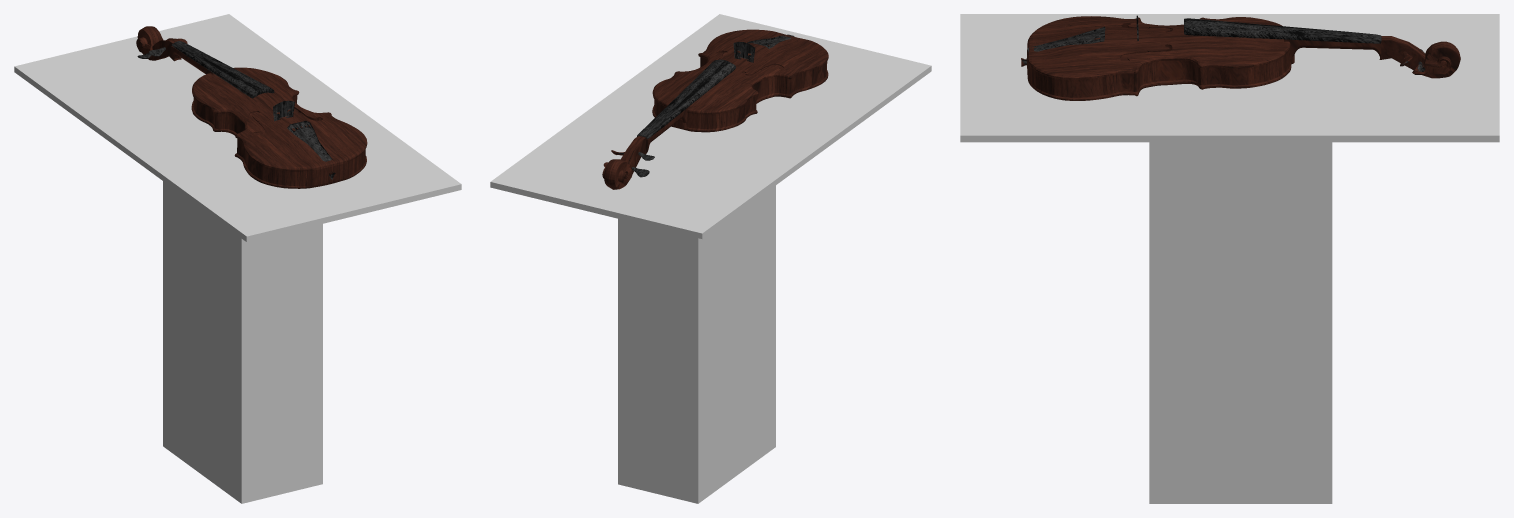
Rendered from Violin1.fbx.
3 renders of one model, left to right at view 1: azimuth 30°, elevation 25°; view 2: azimuth 150°, elevation 25°; view 3: azimuth 270°, elevation 25°, orthographic. The views are drawn at different scales.
Parts seen in each view (by area): view 1: Cube.013, Plane, Violin_Primær_1; view 2: Cube.013, Plane, Violin_Primær_1; view 3: Cube.013, Plane, Violin_Primær_1.
Part boxes in pixels (x1,y1,x2,y2): Cube.013: (163,181,322,503); Plane: (14,14,461,242); Violin_Primær_1: (136,26,367,188); Cube.013: (618,185,775,503); Plane: (490,14,931,238); Violin_Primær_1: (602,29,828,189); Cube.013: (1149,142,1332,503); Plane: (960,14,1499,142); Violin_Primær_1: (1021,15,1460,100).
Size of the model in its own units: 573 by 1013 by 1075.
Materials: 1 (1 with a texture image).
